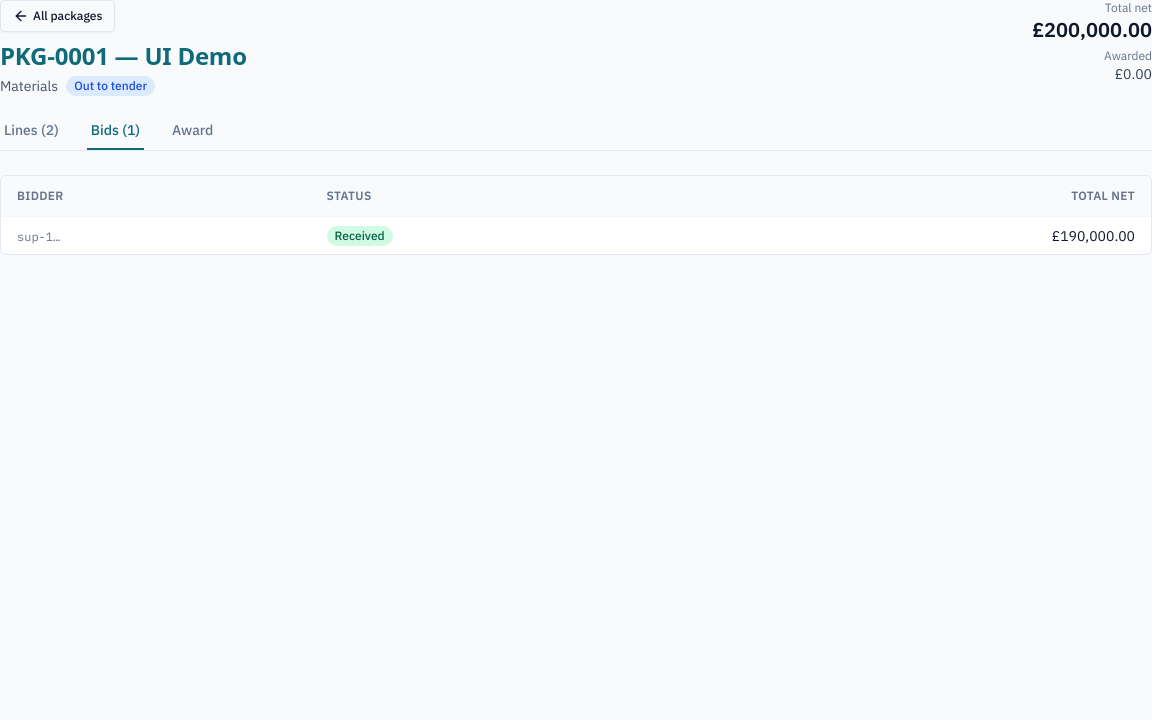
Test: award form Σ summary recomputes on rate input
This screenshot has width=1152, height=720.
Click the button with test id "package-tab-award" at [193, 135], box [168, 120, 217, 150]
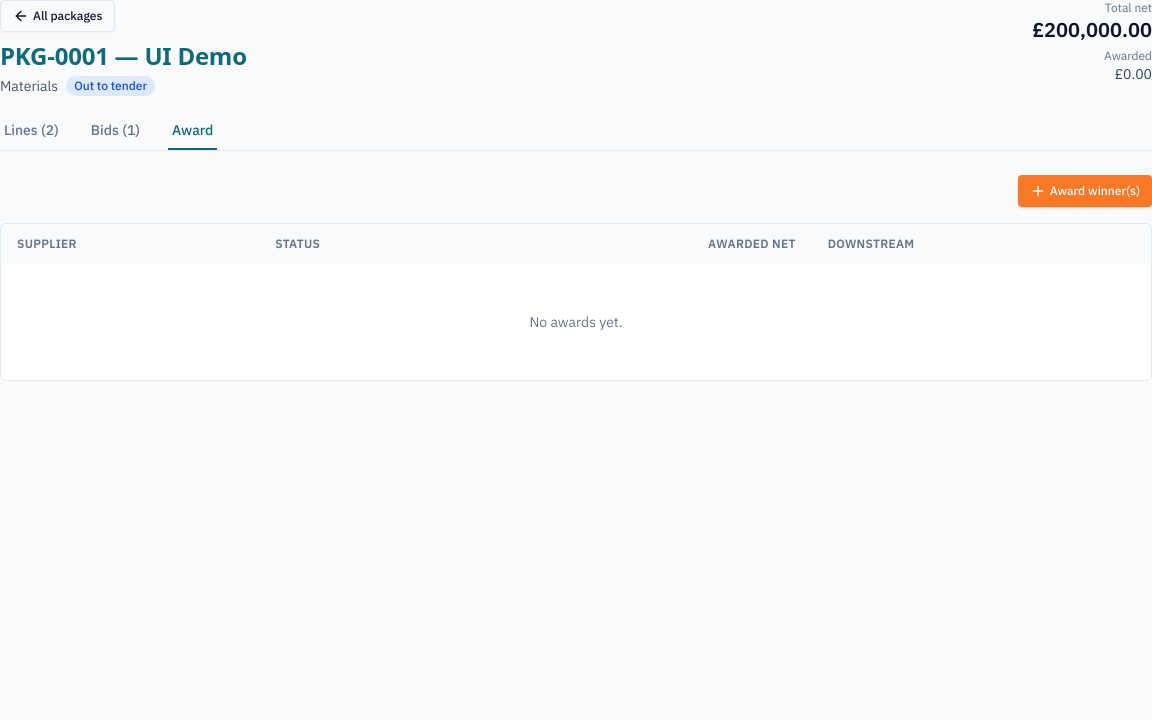
Expected: the element with test id "package-award-tab" is shown, [0, 175, 1151, 381]
Click the button with test id "package-award-open" at [1085, 191], box [1018, 175, 1151, 207]
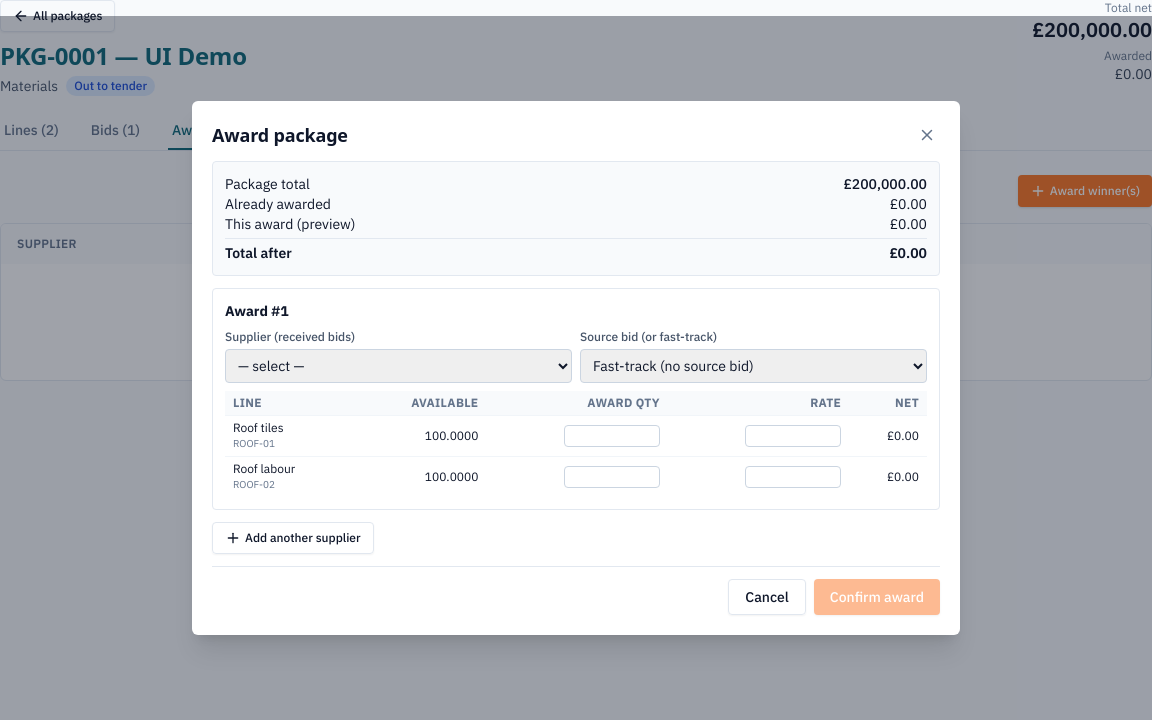
Expected: the dialog with test id "award-form-dialog" is shown
Type "60" into the number field with test id "award-spec-0-qty-0" at [612, 436], box [564, 425, 660, 447]
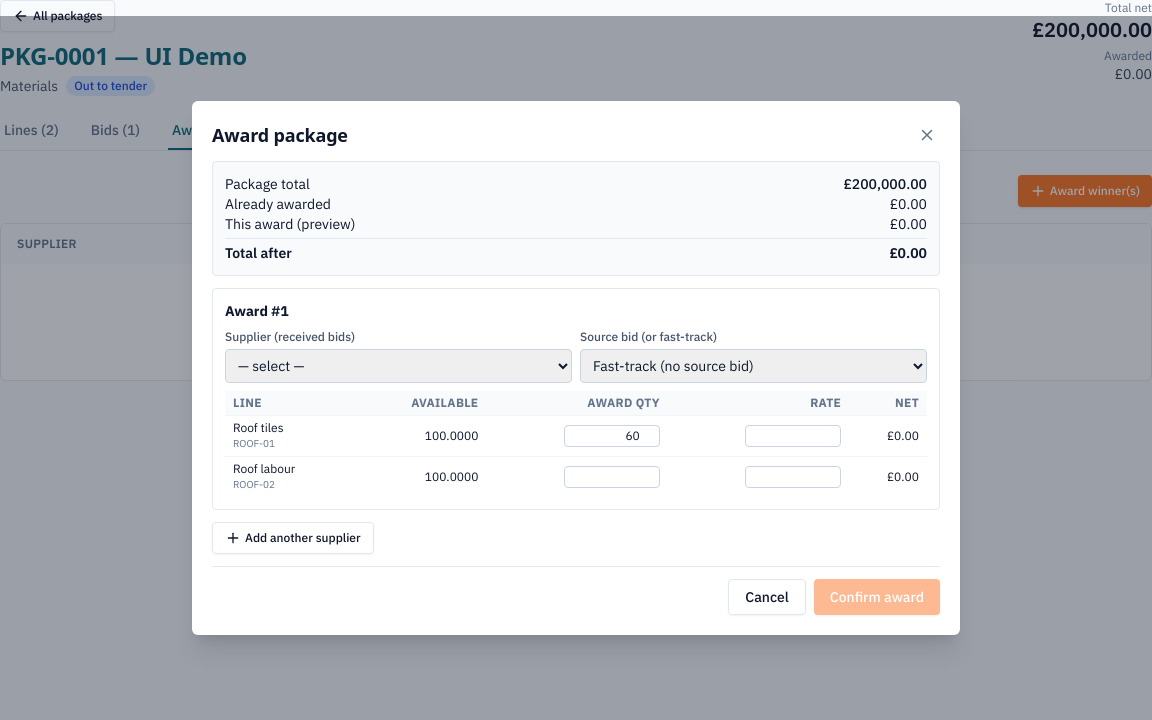
Type "800" into the number field with test id "award-spec-0-rate-0" at [793, 436], box [745, 425, 841, 447]
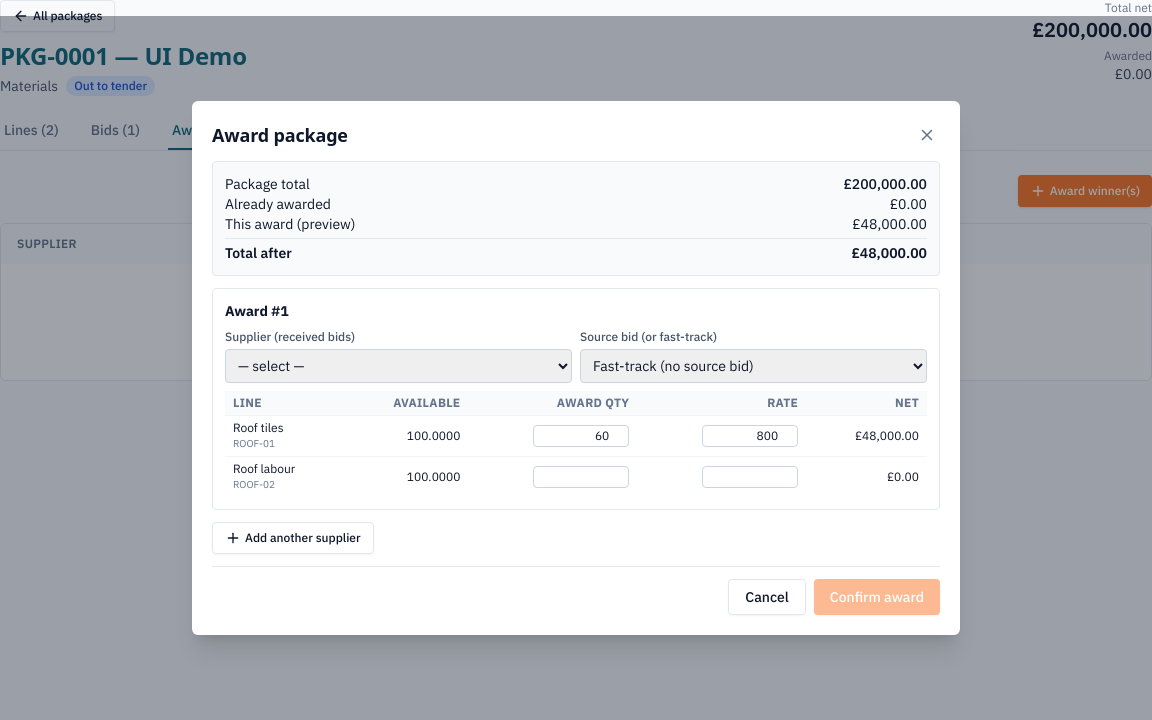
Expected: the text with test id "award-form-total-after" reads "£48,000.00", [852, 244, 927, 262]
Replace the text in the number field with test id "award-spec-0-qty-0" with "100" at [581, 436], box [533, 425, 629, 447]
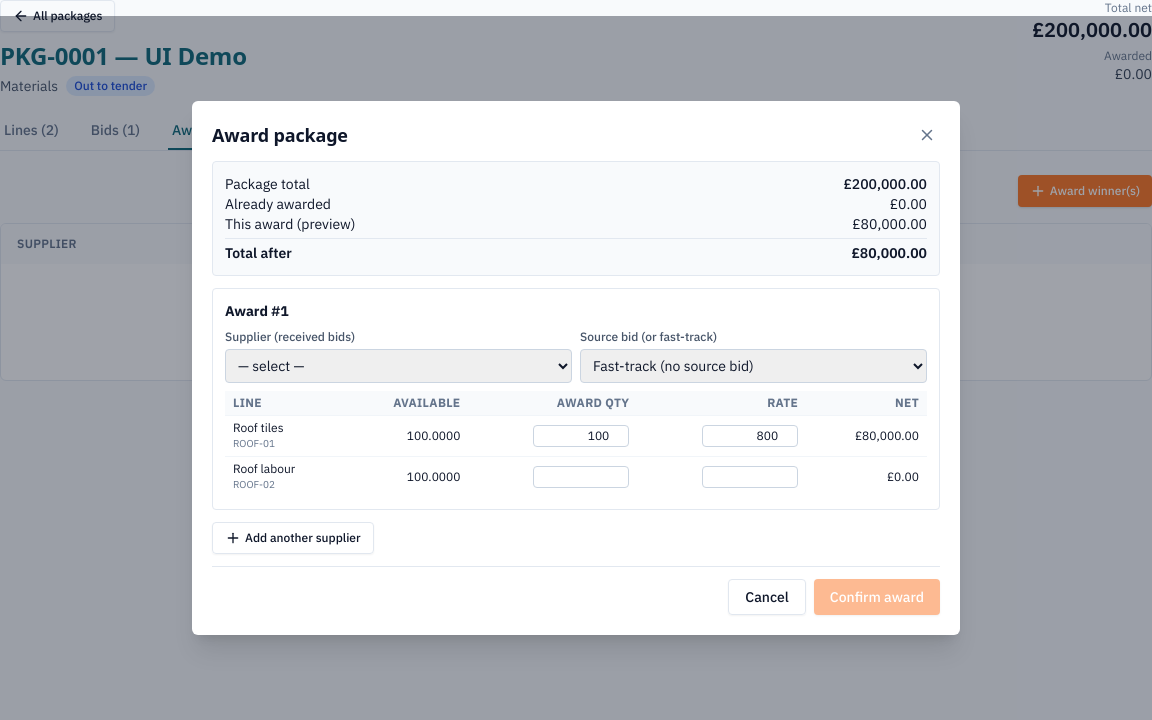
Expected: the text with test id "award-form-total-after" reads "£80,000.00", [852, 244, 927, 262]
